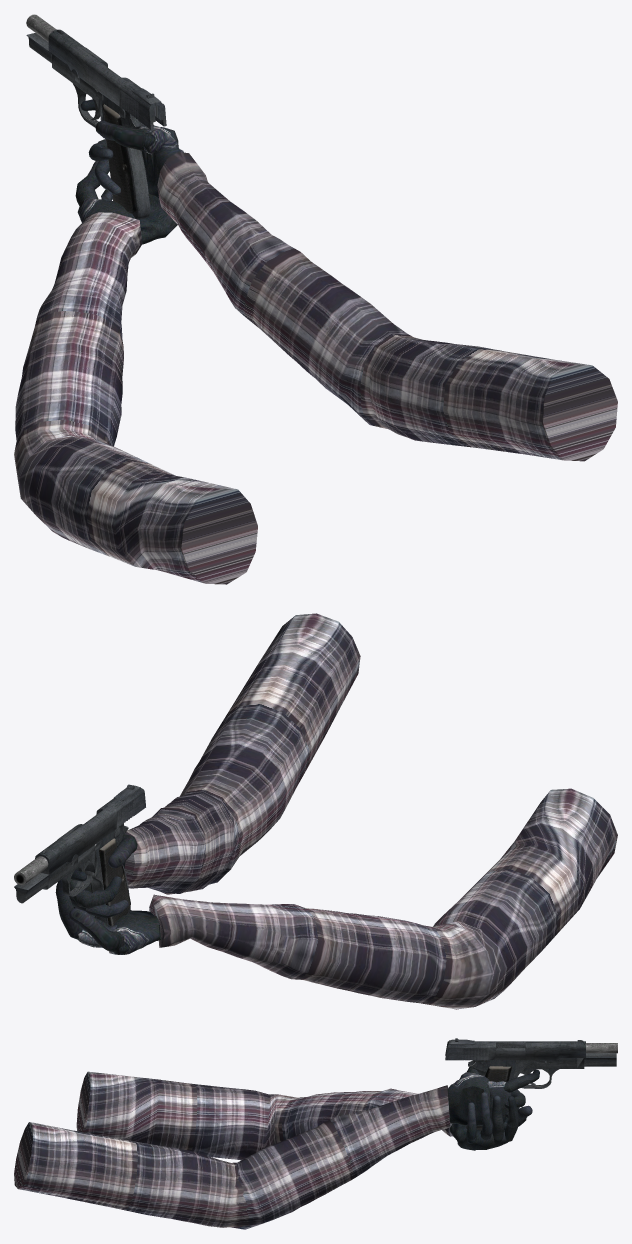
File: hipower_adsempty.fbx
The picture shows the model from 3 angles, top to bottom: view 1: azimuth 30°, elevation 25°; view 2: azimuth 150°, elevation 25°; view 3: azimuth 270°, elevation 25°; orthographic projection. The views are drawn at different scales.
Visible parts, largest first — view 1: rarm, larm, hipower_slide, lhand, rhand, hipower_plasticgrip, hipower_grip, hipower_body, rthumb; view 2: larm, rarm, hipower_slide, lhand, hipower_body, hipower_plasticgrip, lthumb, rmfinger, hipower_grip, lpfinger, rthumb, rrfinger (+1 smaller); view 3: rarm, larm, hipower_slide, rhand, hipower_body, lhand, hipower_grip, lmfinger, lpfinger, lrfinger, rpfinger, hipower_plasticgrip (+2 smaller).
Part boxes in pixels (x1=…): rarm: x1=157, y1=152, x2=617, y2=461; larm: x1=14, y1=212, x2=257, y2=584; hipower_slide: x1=48, y1=29, x2=166, y2=129; lhand: x1=77, y1=192, x2=177, y2=244; rhand: x1=139, y1=125, x2=180, y2=197; hipower_plasticgrip: x1=102, y1=103, x2=148, y2=213; hipower_grip: x1=101, y1=95, x2=150, y2=219; hipower_body: x1=26, y1=33, x2=102, y2=120; rthumb: x1=95, y1=120, x2=146, y2=151; larm: x1=149, y1=788, x2=617, y2=1009; rarm: x1=124, y1=613, x2=360, y2=894; hipower_slide: x1=35, y1=785, x2=145, y2=874; lhand: x1=77, y1=910, x2=161, y2=954; hipower_body: x1=14, y1=845, x2=96, y2=903; hipower_plasticgrip: x1=90, y1=838, x2=130, y2=925; lthumb: x1=69, y1=908, x2=124, y2=954; rmfinger: x1=70, y1=876, x2=121, y2=908; hipower_grip: x1=84, y1=823, x2=130, y2=924; lpfinger: x1=55, y1=879, x2=82, y2=939; rthumb: x1=108, y1=834, x2=137, y2=868; rrfinger: x1=69, y1=896, x2=128, y2=918; rarm: x1=14, y1=1085, x2=450, y2=1229; larm: x1=76, y1=1071, x2=452, y2=1160; hipower_slide: x1=445, y1=1041, x2=585, y2=1060; rhand: x1=447, y1=1072, x2=511, y2=1126; hipower_body: x1=514, y1=1053, x2=616, y2=1077; lhand: x1=449, y1=1123, x2=508, y2=1150; hipower_grip: x1=465, y1=1060, x2=515, y2=1129; lmfinger: x1=491, y1=1095, x2=504, y2=1143; lpfinger: x1=504, y1=1096, x2=518, y2=1141; lrfinger: x1=480, y1=1092, x2=492, y2=1139; rpfinger: x1=503, y1=1069, x2=539, y2=1092; hipower_plasticgrip: x1=476, y1=1066, x2=511, y2=1129.
Size of the model in its own units: 19.01 by 12.27 by 34.86.
Materials: 3 (3 with a texture image).
